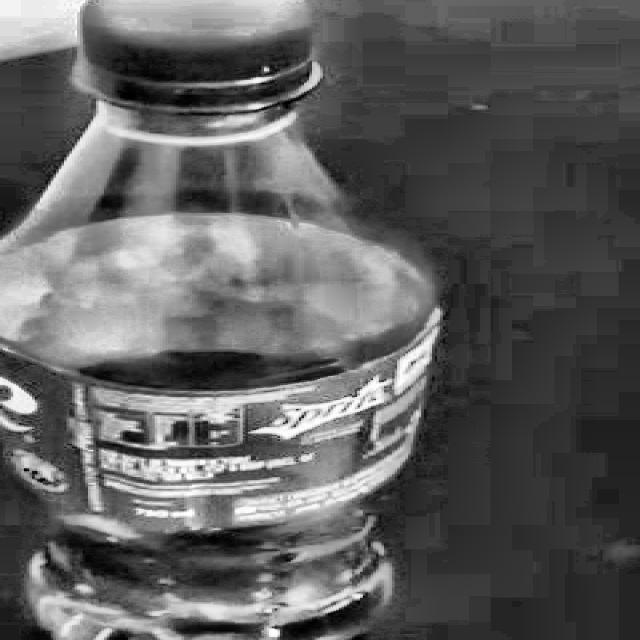bottle: (0, 0, 445, 640)
